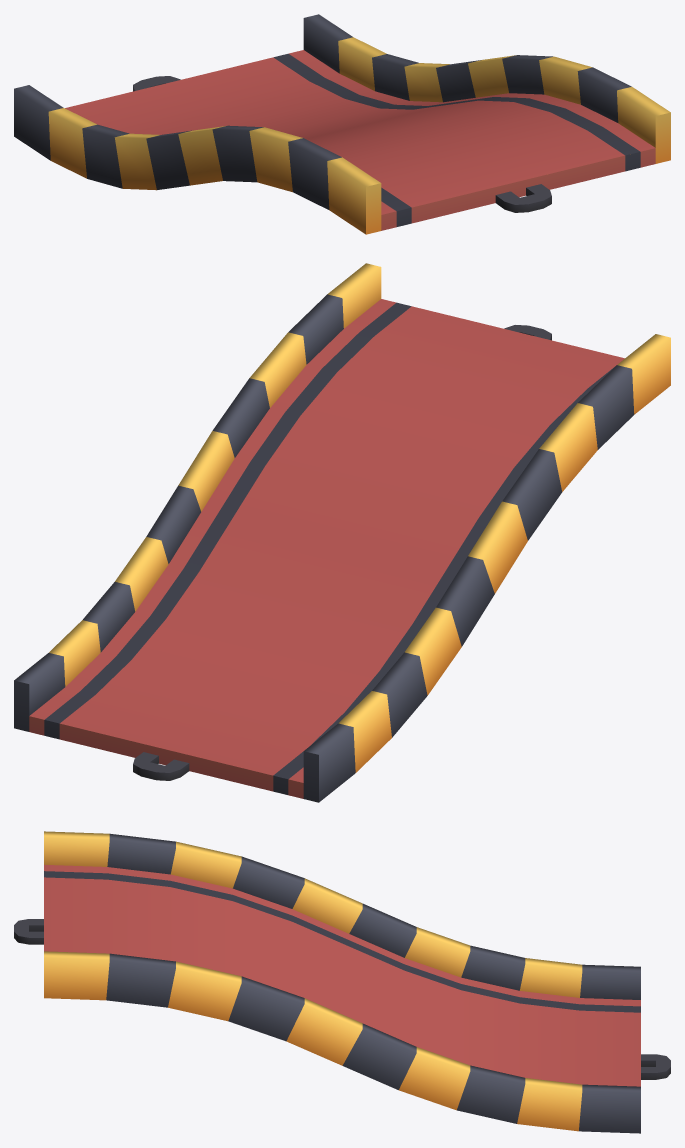
File: track-road-wide-straight-hill-complete.fbx
3 renders of one model, top to bottom at view 1: azimuth 30°, elevation 25°; view 2: azimuth 150°, elevation 25°; view 3: azimuth 270°, elevation 25°, orthographic. The views are drawn at different scales.
Parts seen in each view (by area): view 1: track-road-wide-straight-hill-complete; view 2: track-road-wide-straight-hill-complete; view 3: track-road-wide-straight-hill-complete.
Boxes of the visible parts, x1,y1,x2,y2 form: track-road-wide-straight-hill-complete: (14, 14, 670, 234); track-road-wide-straight-hill-complete: (14, 263, 670, 802); track-road-wide-straight-hill-complete: (14, 831, 670, 1133).
Size of the model in its own units: 200 by 130 by 440.
